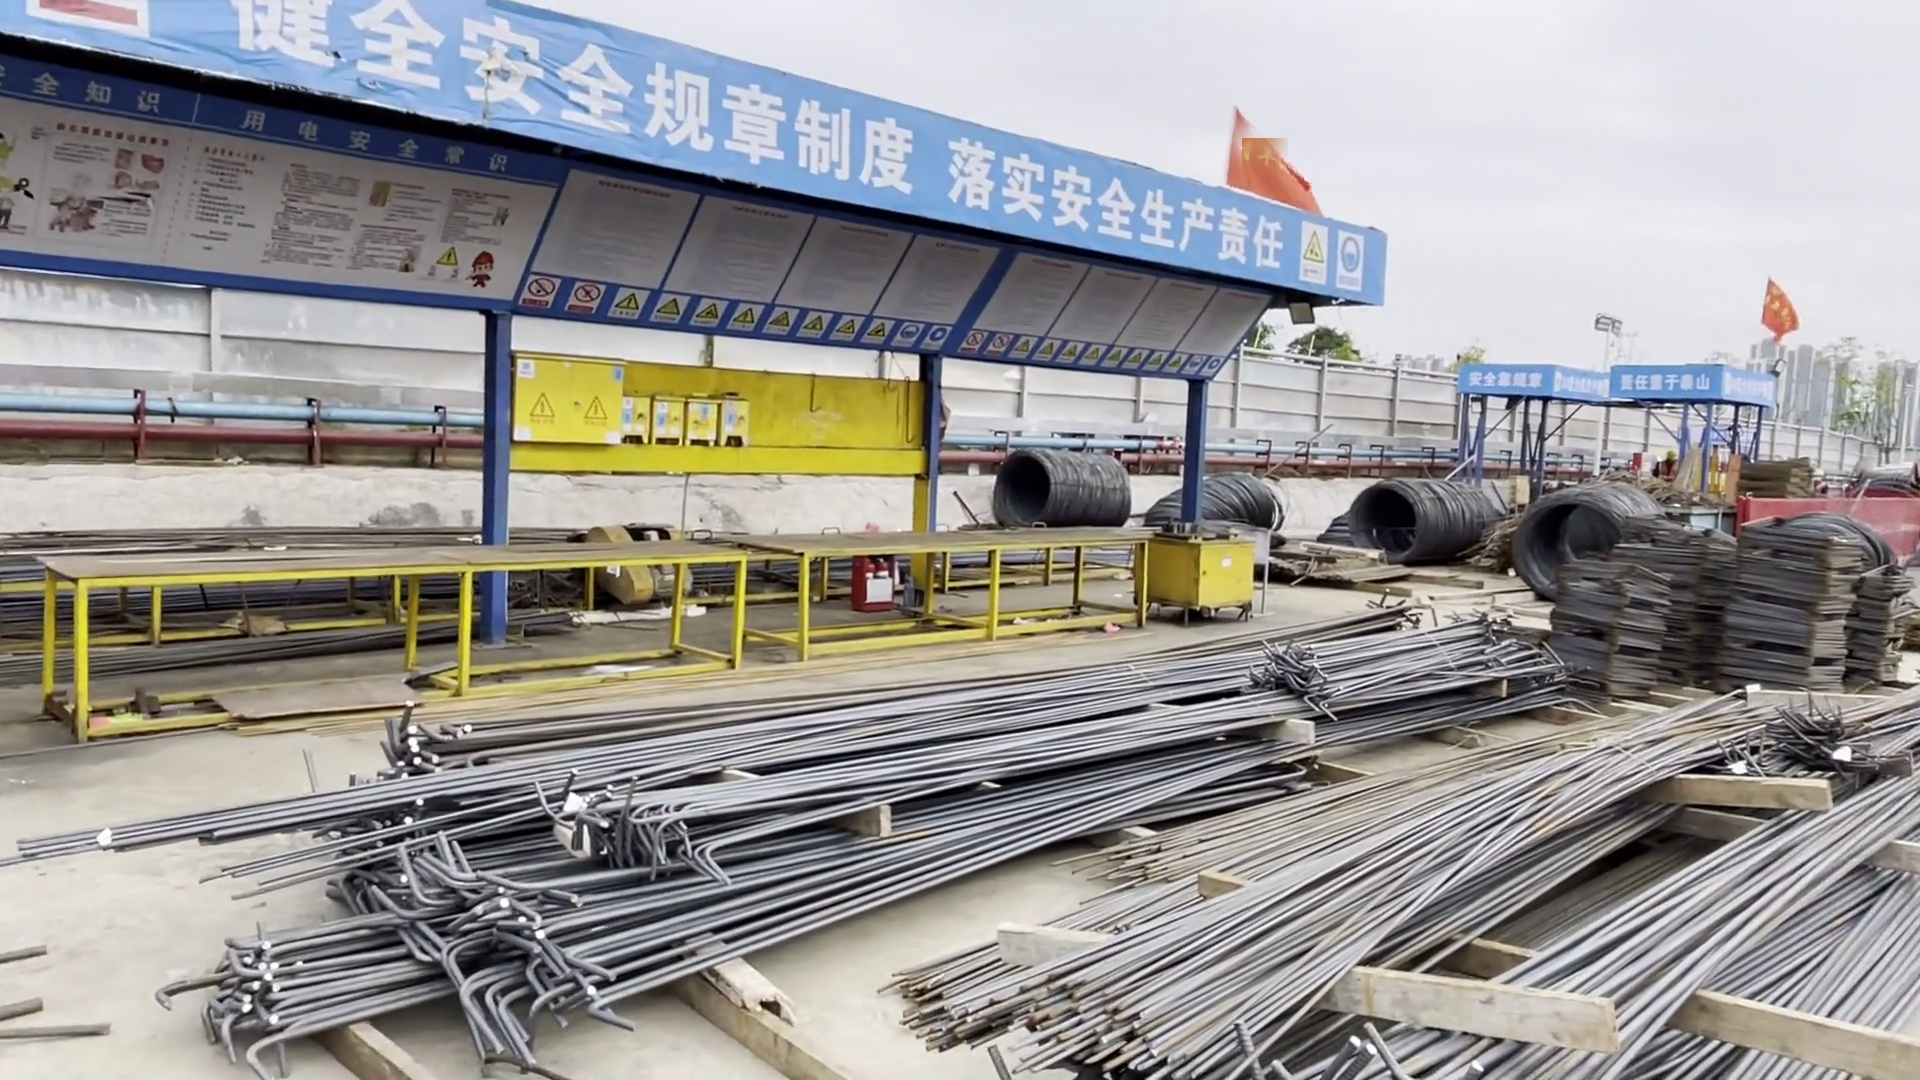cutter: (1152, 520, 1245, 611)
ebox: (508, 348, 628, 451)
fence: (1734, 494, 1920, 553)
helmet: (1665, 451, 1677, 464)
person: (1656, 451, 1679, 485)
rebar: (218, 632, 1916, 1080)
slogan: (34, 1, 1391, 306), (508, 281, 1227, 384), (1455, 361, 1774, 408)
vest: (1660, 461, 1677, 479)
